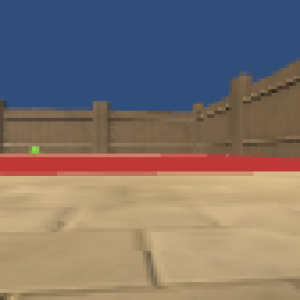deathZone: (1, 155, 299, 179)
goodGoal: (28, 145, 41, 153)
